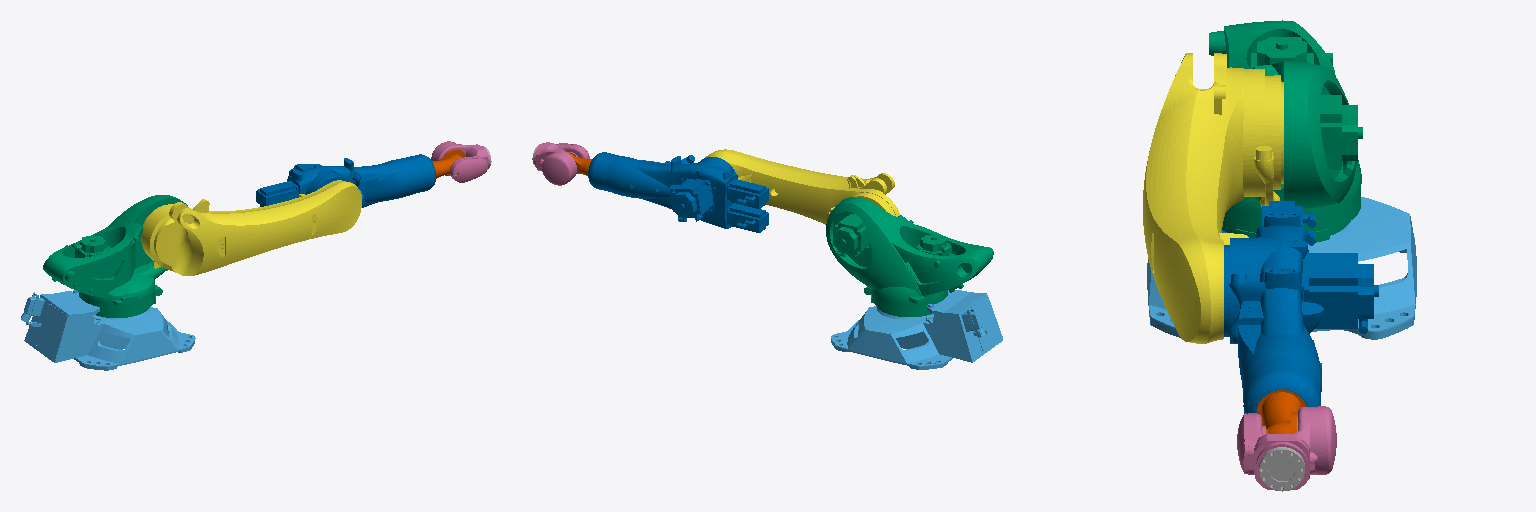
robot.urdf — robot:
<?xml version="1.0" encoding="UTF-8"?>
<robot name="">
  <joint name="joint_a1" type="revolute">
    <origin xyz="0. 0. 0.860625" rpy="3.1415927 0. 3.1415927"/>
    <parent link="like_kr240r2900_base_link"/>
    <child link="like_kr240r2900_link_1"/>
    <axis xyz="0. 0. 1."/>
    <limit lower="-3.2288591" upper="3.2288591" effort="340282346638528859811704183484516925440." velocity="2.7227136"/>
  </joint>
  <joint name="joint_a2" type="revolute">
    <origin xyz="-0.44625 0. 0. " rpy="3.1415927 0. 3.1415927"/>
    <parent link="like_kr240r2900_link_1"/>
    <child link="like_kr240r2900_link_2"/>
    <axis xyz="0. 1. 0."/>
    <limit lower="-2.7052601" upper="0.6108652" effort="340282346638528859811704183484516925440." velocity="2.7227136"/>
  </joint>
  <joint name="joint_a3" type="revolute">
    <origin xyz="1.46625 0. 0. " rpy="0. 0. 0."/>
    <parent link="like_kr240r2900_link_2"/>
    <child link="like_kr240r2900_link_3"/>
    <axis xyz="0. 1. 0."/>
    <limit lower="-2.268928" upper="2.687807" effort="340282346638528859811704183484516925440." velocity="2.7227136"/>
  </joint>
  <joint name="joint_a4" type="revolute">
    <origin xyz="1.2750001 0. -0.052275 " rpy="0. 0. 3.1415927"/>
    <parent link="like_kr240r2900_link_3"/>
    <child link="like_kr240r2900_link_4"/>
    <axis xyz="1. 0. 0."/>
    <limit lower="-6.1086524" upper="6.1086524" effort="340282346638528859811704183484516925440." velocity="5.759586"/>
  </joint>
  <joint name="joint_a5" type="revolute">
    <origin xyz="0. 0. -0." rpy="0. 0. 3.1415927"/>
    <parent link="like_kr240r2900_link_4"/>
    <child link="like_kr240r2900_link_5"/>
    <axis xyz="0. 1. 0."/>
    <limit lower="-2.268928" upper="2.268928" effort="340282346638528859811704183484516925440." velocity="5.759586"/>
  </joint>
  <joint name="joint_a6" type="revolute">
    <origin xyz="0. 0. 0." rpy="0. 0. 3.1415927"/>
    <parent link="like_kr240r2900_link_5"/>
    <child link="like_kr240r2900_link_6"/>
    <axis xyz="1. 0. 0."/>
    <limit lower="-6.1086524" upper="6.1086524" effort="340282346638528859811704183484516925440." velocity="10.7337749"/>
  </joint>
  <joint name="root_joint" type="fixed">
    <origin xyz="0. 0. 0." rpy="0. 0. 0."/>
    <parent link="World"/>
    <child link="like_kr240r2900_base_link"/>
  </joint>
  <link name="World"/>
  <link name="like_kr240r2900_base_link">
    <inertial>
      <origin xyz="0. 0. 0." rpy="0. 0. 0."/>
      <mass value="2."/>
      <inertia ixx="0.01" ixy="0." ixz="0." iyy="0.01" iyz="0." izz="0.01"/>
    </inertial>
    <visual>
      <origin xyz="0. 0. 0." rpy="0. 0. 0."/>
      <geometry>
        <mesh filename="./meshes/like_kr240r2900_base_link_visuals_base_link_Scene_mesh.obj" scale="1. 1. 1."/>
      </geometry>
    </visual>
    <collision>
      <origin xyz="0. 0. 0." rpy="0. 0. 0."/>
      <geometry>
        <mesh filename="./meshes/like_kr240r2900_base_link_collisions_base_link_node_STL_BINARY__mesh.obj" scale="1. 1. 1."/>
      </geometry>
    </collision>
  </link>
  <link name="like_kr240r2900_link_1">
    <inertial>
      <origin xyz="0. 0. 0." rpy="0. 0. 0."/>
      <mass value="2."/>
      <inertia ixx="0.01" ixy="0." ixz="0." iyy="0.01" iyz="0." izz="0.01"/>
    </inertial>
    <visual>
      <origin xyz="0. 0. 0." rpy="3.1415927 0. 3.1415927"/>
      <geometry>
        <mesh filename="./meshes/like_kr240r2900_link_1_visuals_link_1_Scene_mesh.obj" scale="1. 1. 1."/>
      </geometry>
    </visual>
    <collision>
      <origin xyz="0. 0. 0." rpy="3.1415927 0. 3.1415927"/>
      <geometry>
        <mesh filename="./meshes/like_kr240r2900_link_1_collisions_link_1_node_STL_BINARY__mesh.obj" scale="1. 1. 1."/>
      </geometry>
    </collision>
  </link>
  <link name="like_kr240r2900_link_2">
    <inertial>
      <origin xyz="0. 0. 0." rpy="0. 0. 0."/>
      <mass value="2."/>
      <inertia ixx="0.01" ixy="0." ixz="0." iyy="0.01" iyz="0." izz="0.01"/>
    </inertial>
    <visual>
      <origin xyz="0. 0. 0." rpy="0. 0. 0."/>
      <geometry>
        <mesh filename="./meshes/like_kr240r2900_link_2_visuals_link_2_Scene_mesh.obj" scale="1. 1. 1."/>
      </geometry>
    </visual>
    <collision>
      <origin xyz="0. 0. 0." rpy="0. 0. 0."/>
      <geometry>
        <mesh filename="./meshes/like_kr240r2900_link_2_collisions_link_2_node_STL_BINARY__mesh.obj" scale="1. 1. 1."/>
      </geometry>
    </collision>
  </link>
  <link name="like_kr240r2900_link_3">
    <inertial>
      <origin xyz="0. 0. 0." rpy="0. 0. 0."/>
      <mass value="2."/>
      <inertia ixx="0.01" ixy="0." ixz="0." iyy="0.01" iyz="0." izz="0.01"/>
    </inertial>
    <visual>
      <origin xyz="0. 0. 0." rpy="0. 0. 0."/>
      <geometry>
        <mesh filename="./meshes/like_kr240r2900_link_3_visuals_link_3_Scene_mesh.obj" scale="1. 1. 1."/>
      </geometry>
    </visual>
    <collision>
      <origin xyz="0. 0. 0." rpy="0. 0. 0."/>
      <geometry>
        <mesh filename="./meshes/like_kr240r2900_link_3_collisions_link_3_node_STL_BINARY__mesh.obj" scale="1. 1. 1."/>
      </geometry>
    </collision>
  </link>
  <link name="like_kr240r2900_link_4">
    <inertial>
      <origin xyz="0. 0. 0." rpy="0. 0. 0."/>
      <mass value="2."/>
      <inertia ixx="0.01" ixy="0." ixz="0." iyy="0.01" iyz="0." izz="0.01"/>
    </inertial>
    <visual>
      <origin xyz="0. 0. -0." rpy="0. 0. 3.1415927"/>
      <geometry>
        <mesh filename="./meshes/like_kr240r2900_link_4_visuals_link_4_Scene_mesh.obj" scale="1. 1. 1."/>
      </geometry>
    </visual>
    <collision>
      <origin xyz="0. 0. -0." rpy="0. 0. 3.1415927"/>
      <geometry>
        <mesh filename="./meshes/like_kr240r2900_link_4_collisions_link_4_node_STL_BINARY__mesh.obj" scale="1. 1. 1."/>
      </geometry>
    </collision>
  </link>
  <link name="like_kr240r2900_link_5">
    <inertial>
      <origin xyz="0. 0. 0." rpy="0. 0. 0."/>
      <mass value="2."/>
      <inertia ixx="0.01" ixy="0." ixz="0." iyy="0.01" iyz="0." izz="0.01"/>
    </inertial>
    <visual>
      <origin xyz="0. 0. 0." rpy="0. 0. 0."/>
      <geometry>
        <mesh filename="./meshes/like_kr240r2900_link_5_visuals_link_5_Scene_mesh.obj" scale="1. 1. 1."/>
      </geometry>
    </visual>
    <collision>
      <origin xyz="0. 0. 0." rpy="0. 0. 0."/>
      <geometry>
        <mesh filename="./meshes/like_kr240r2900_link_5_collisions_link_5_node_STL_BINARY__mesh.obj" scale="1. 1. 1."/>
      </geometry>
    </collision>
  </link>
  <link name="like_kr240r2900_link_6">
    <inertial>
      <origin xyz="0. 0. 0." rpy="0. 0. 0."/>
      <mass value="2."/>
      <inertia ixx="0.01" ixy="0." ixz="0." iyy="0.01" iyz="0." izz="0.01"/>
    </inertial>
    <visual>
      <origin xyz="0. 0. 0." rpy="0. 0. 3.1415927"/>
      <geometry>
        <mesh filename="./meshes/like_kr240r2900_link_6_visuals_link_6_Scene_mesh.obj" scale="1. 1. 1."/>
      </geometry>
    </visual>
    <collision>
      <origin xyz="0. 0. 0." rpy="0. 0. 3.1415927"/>
      <geometry>
        <mesh filename="./meshes/like_kr240r2900_link_6_collisions_link_6_node_STL_BINARY__mesh.obj" scale="1. 1. 1."/>
      </geometry>
    </collision>
  </link>
</robot>

--- Render facts (derived) ---
The picture shows the robot from 3 angles, left to right: view 1: azimuth 30°, elevation 25°; view 2: azimuth 150°, elevation 25°; view 3: azimuth 270°, elevation 25°; orthographic projection.
Model robot with 8 links and 7 joints (6 revolute, 1 fixed), rooted at World, posed every joint at zero.
Links seen in each view (by area): view 1: like_kr240r2900_link_2, like_kr240r2900_base_link, like_kr240r2900_link_1, like_kr240r2900_link_3, like_kr240r2900_link_5; view 2: like_kr240r2900_link_1, like_kr240r2900_link_3, like_kr240r2900_base_link, like_kr240r2900_link_2, like_kr240r2900_link_5; view 3: like_kr240r2900_link_2, like_kr240r2900_link_3, like_kr240r2900_link_1, like_kr240r2900_base_link, like_kr240r2900_link_5, like_kr240r2900_link_6, like_kr240r2900_link_4.
Boxes of the visible links, bbox=[...] form: like_kr240r2900_link_2: bbox=[141, 180, 361, 275]; like_kr240r2900_base_link: bbox=[21, 290, 195, 370]; like_kr240r2900_link_1: bbox=[43, 195, 187, 317]; like_kr240r2900_link_3: bbox=[256, 154, 435, 207]; like_kr240r2900_link_5: bbox=[431, 141, 489, 182]; like_kr240r2900_link_1: bbox=[826, 197, 993, 316]; like_kr240r2900_link_3: bbox=[588, 152, 768, 232]; like_kr240r2900_base_link: bbox=[831, 290, 1002, 369]; like_kr240r2900_link_2: bbox=[705, 149, 899, 224]; like_kr240r2900_link_5: bbox=[534, 142, 589, 185]; like_kr240r2900_link_2: bbox=[1143, 53, 1283, 343]; like_kr240r2900_link_3: bbox=[1224, 201, 1378, 413]; like_kr240r2900_link_1: bbox=[1209, 20, 1362, 242]; like_kr240r2900_base_link: bbox=[1147, 197, 1416, 339]; like_kr240r2900_link_5: bbox=[1237, 406, 1336, 491]; like_kr240r2900_link_6: bbox=[1259, 447, 1304, 490]; like_kr240r2900_link_4: bbox=[1257, 390, 1306, 433].
Size in the robot's own frame: 4.26 by 1.08 by 1.2 metres.
7 mesh visuals loaded from 7 distinct referenced files (7 OBJ).
